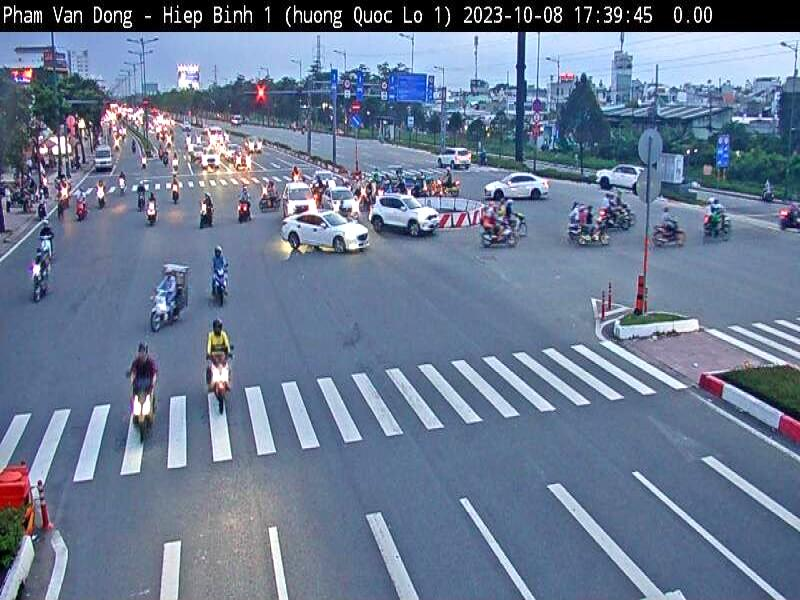car: (274, 200, 370, 263), (363, 190, 439, 248), (481, 163, 564, 209), (306, 179, 364, 230), (274, 175, 328, 229), (594, 153, 646, 202), (430, 135, 482, 181), (296, 158, 346, 195), (85, 139, 121, 181)
motorcycle: (184, 347, 250, 408)
